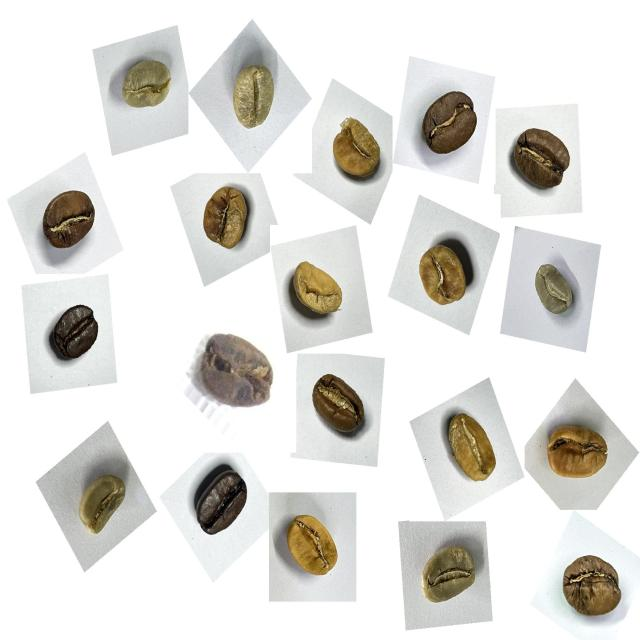bad: (192, 321, 282, 422)
dark: (185, 459, 258, 553), (44, 295, 110, 375)
green: (410, 535, 486, 622), (67, 462, 135, 548), (219, 58, 286, 144), (110, 49, 181, 127), (522, 255, 582, 327)
light: (406, 226, 479, 316), (538, 410, 618, 492), (435, 403, 506, 492), (277, 504, 348, 592), (280, 251, 352, 333), (320, 109, 388, 194), (191, 176, 258, 261)
medium: (554, 545, 633, 634), (413, 79, 488, 171), (504, 118, 580, 204), (303, 363, 376, 447), (32, 181, 105, 264)
